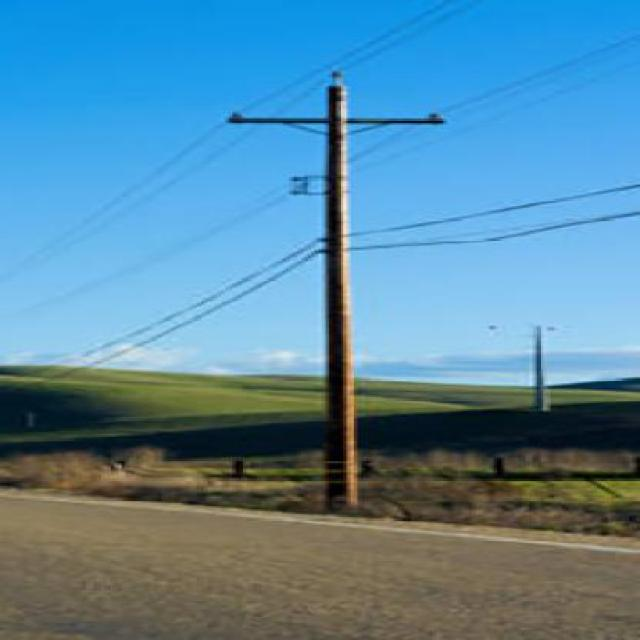pole: (182, 75, 506, 514)
